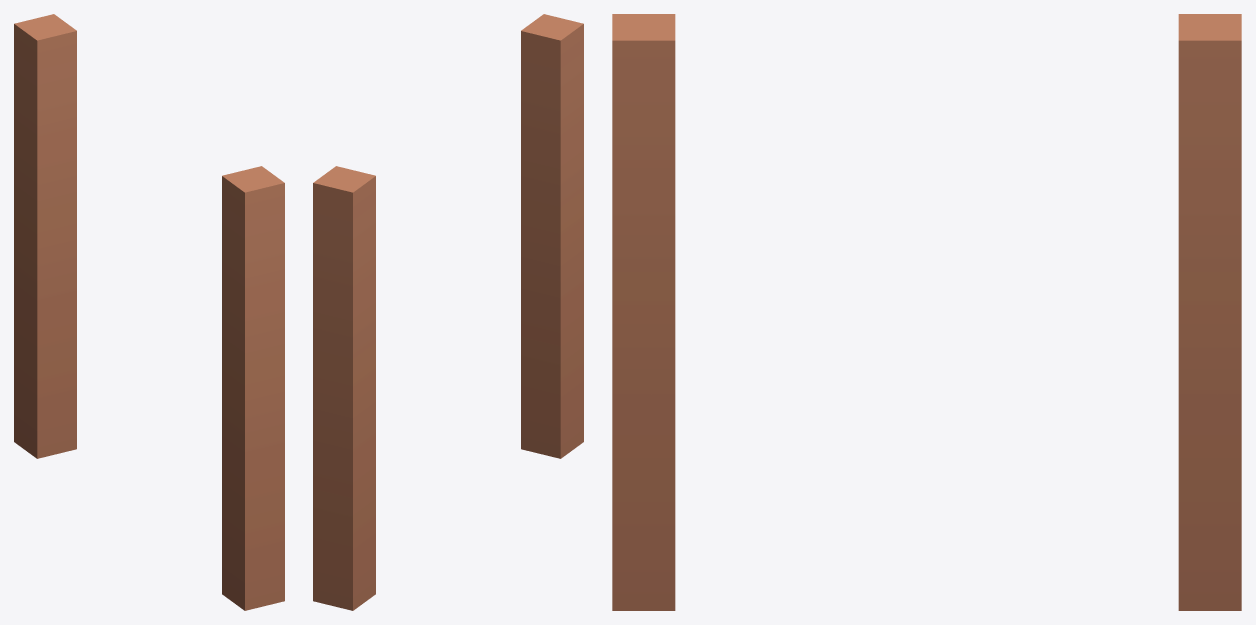
File: poles.glb
3 renders of one model, left to right at view 1: azimuth 30°, elevation 25°; view 2: azimuth 150°, elevation 25°; view 3: azimuth 270°, elevation 25°, orthographic. The views are drawn at different scales.
Visible parts, largest first — view 1: poles; view 2: poles; view 3: poles.
Boxes of the visible parts, x1,y1,x2,y2 form: poles: [14, 14, 284, 610]; poles: [313, 14, 583, 610]; poles: [612, 14, 1241, 610].
Bounding box in the file's own units: 0.1 × 1 × 1.
Materials: 1 (1 with a texture image).
